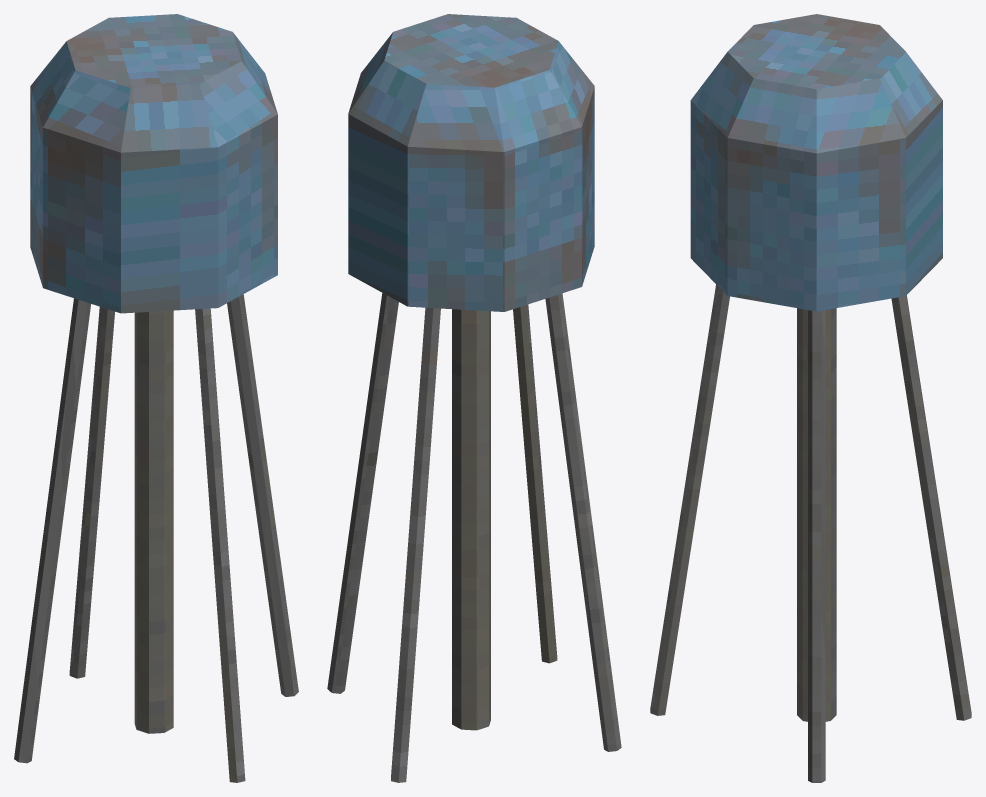
The model's file is watertower_1.obj.
3 views of the same model, side by side, from view 1: azimuth 30°, elevation 25°; view 2: azimuth 150°, elevation 25°; view 3: azimuth 270°, elevation 25° (orthographic).
Visible parts, largest first — view 1: Cylinder.002; view 2: Cylinder.002; view 3: Cylinder.002.
Boxes of the visible parts, x1,y1,x2,y2 form: Cylinder.002: (14, 14, 298, 782); Cylinder.002: (327, 14, 621, 782); Cylinder.002: (650, 14, 971, 782).
Size of the model in its own units: 2.83 by 6.41 by 2.8.
Materials: 1 (1 with a texture image).
